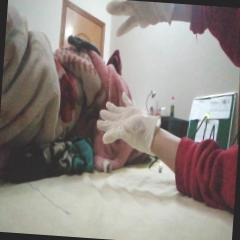gloved: (95, 91, 162, 158), (104, 0, 176, 42)
